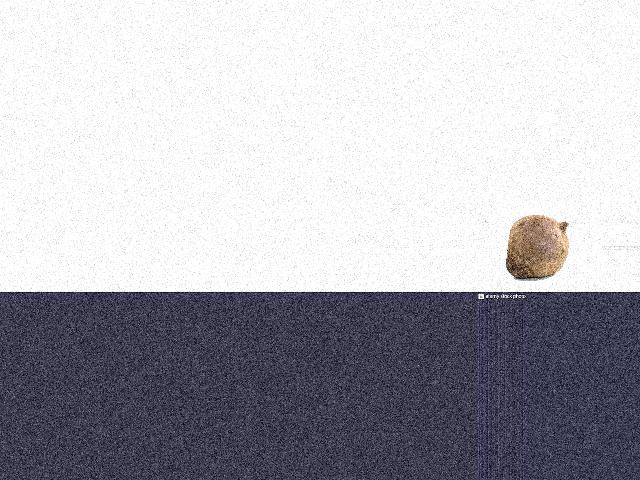beet: (506, 215, 569, 279)
